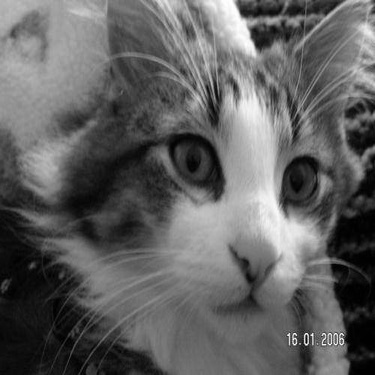cat: (3, 1, 367, 371)
